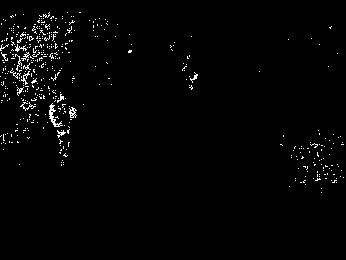person: (48, 90, 84, 167)
